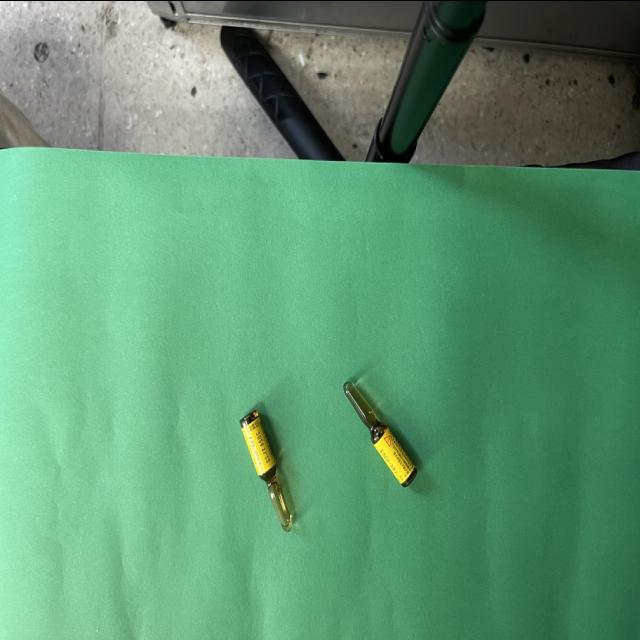Ampoules: (344, 381, 417, 487), (240, 409, 293, 531)
